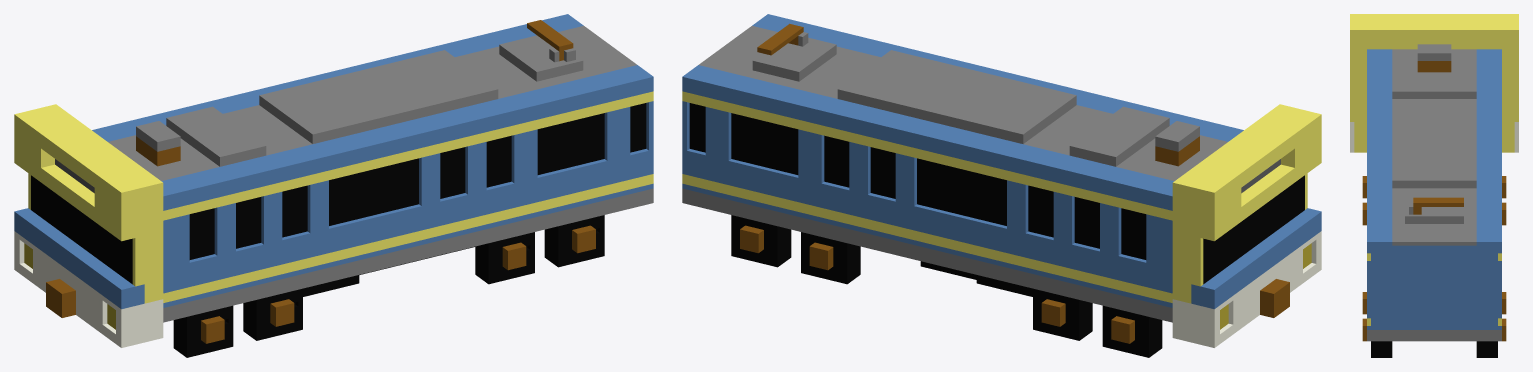
Rendered from tren1.obj.
3 views of the same model, side by side, from view 1: azimuth 30°, elevation 25°; view 2: azimuth 150°, elevation 25°; view 3: azimuth 270°, elevation 25° (orthographic). The views are drawn at different scales.
Size of the model in its own units: 120 by 40 by 40.
1 material, 1 textured.
